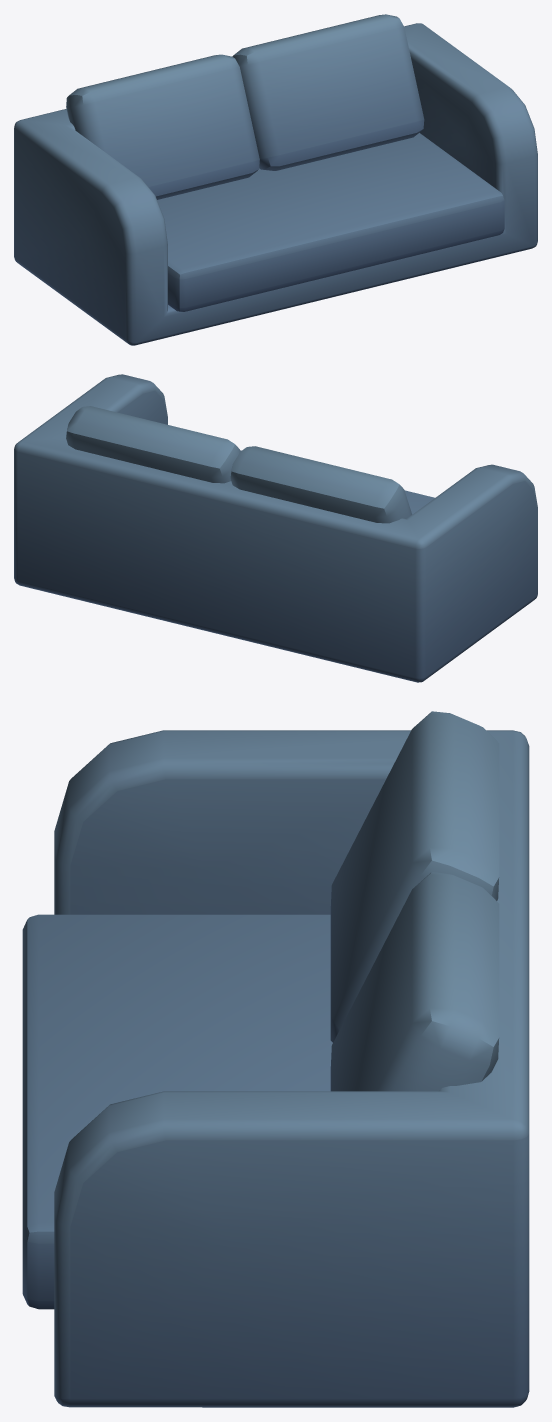
The model's file is couch.glb.
3 views of the same model, one above another, from view 1: azimuth 30°, elevation 25°; view 2: azimuth 150°, elevation 25°; view 3: azimuth 270°, elevation 25° (orthographic). The views are drawn at different scales.
Visible parts, largest first — view 1: couch; view 2: couch; view 3: couch.
Boxes of the visible parts, x1,y1,x2,y2 form: couch: (14,14,537,345); couch: (14,374,537,682); couch: (22,711,529,1407).
Size of the model in its own units: 3 by 1.22 by 1.6.
Materials: 1 (1 with a texture image).
